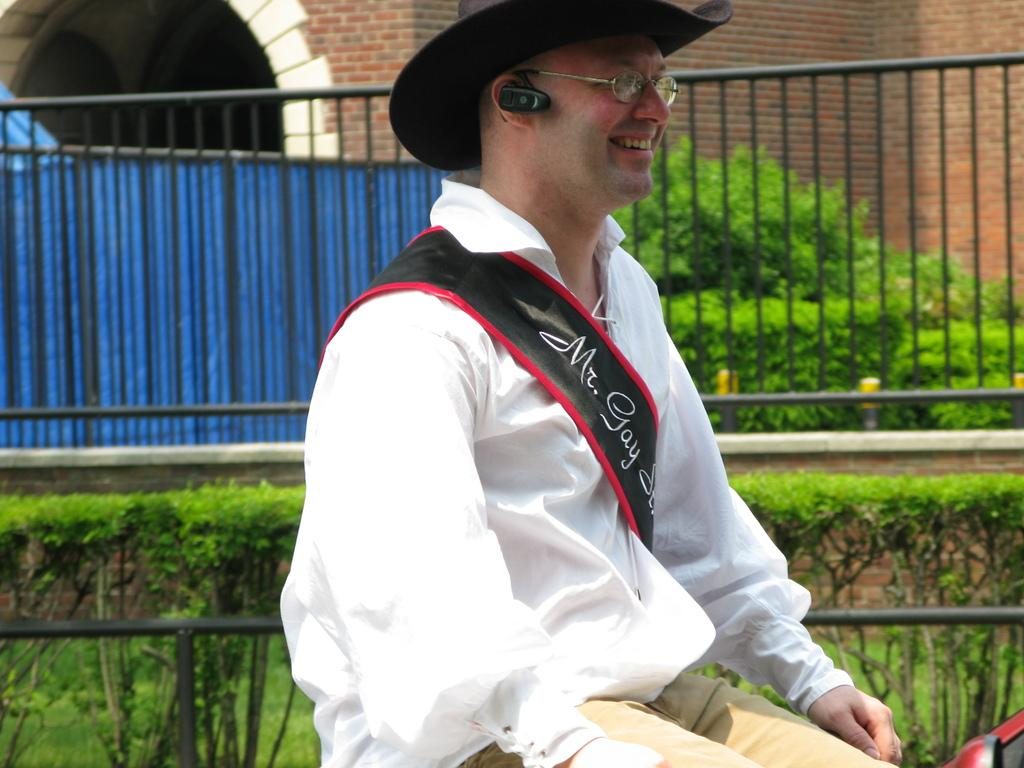Hat: (390, 0, 732, 168)
